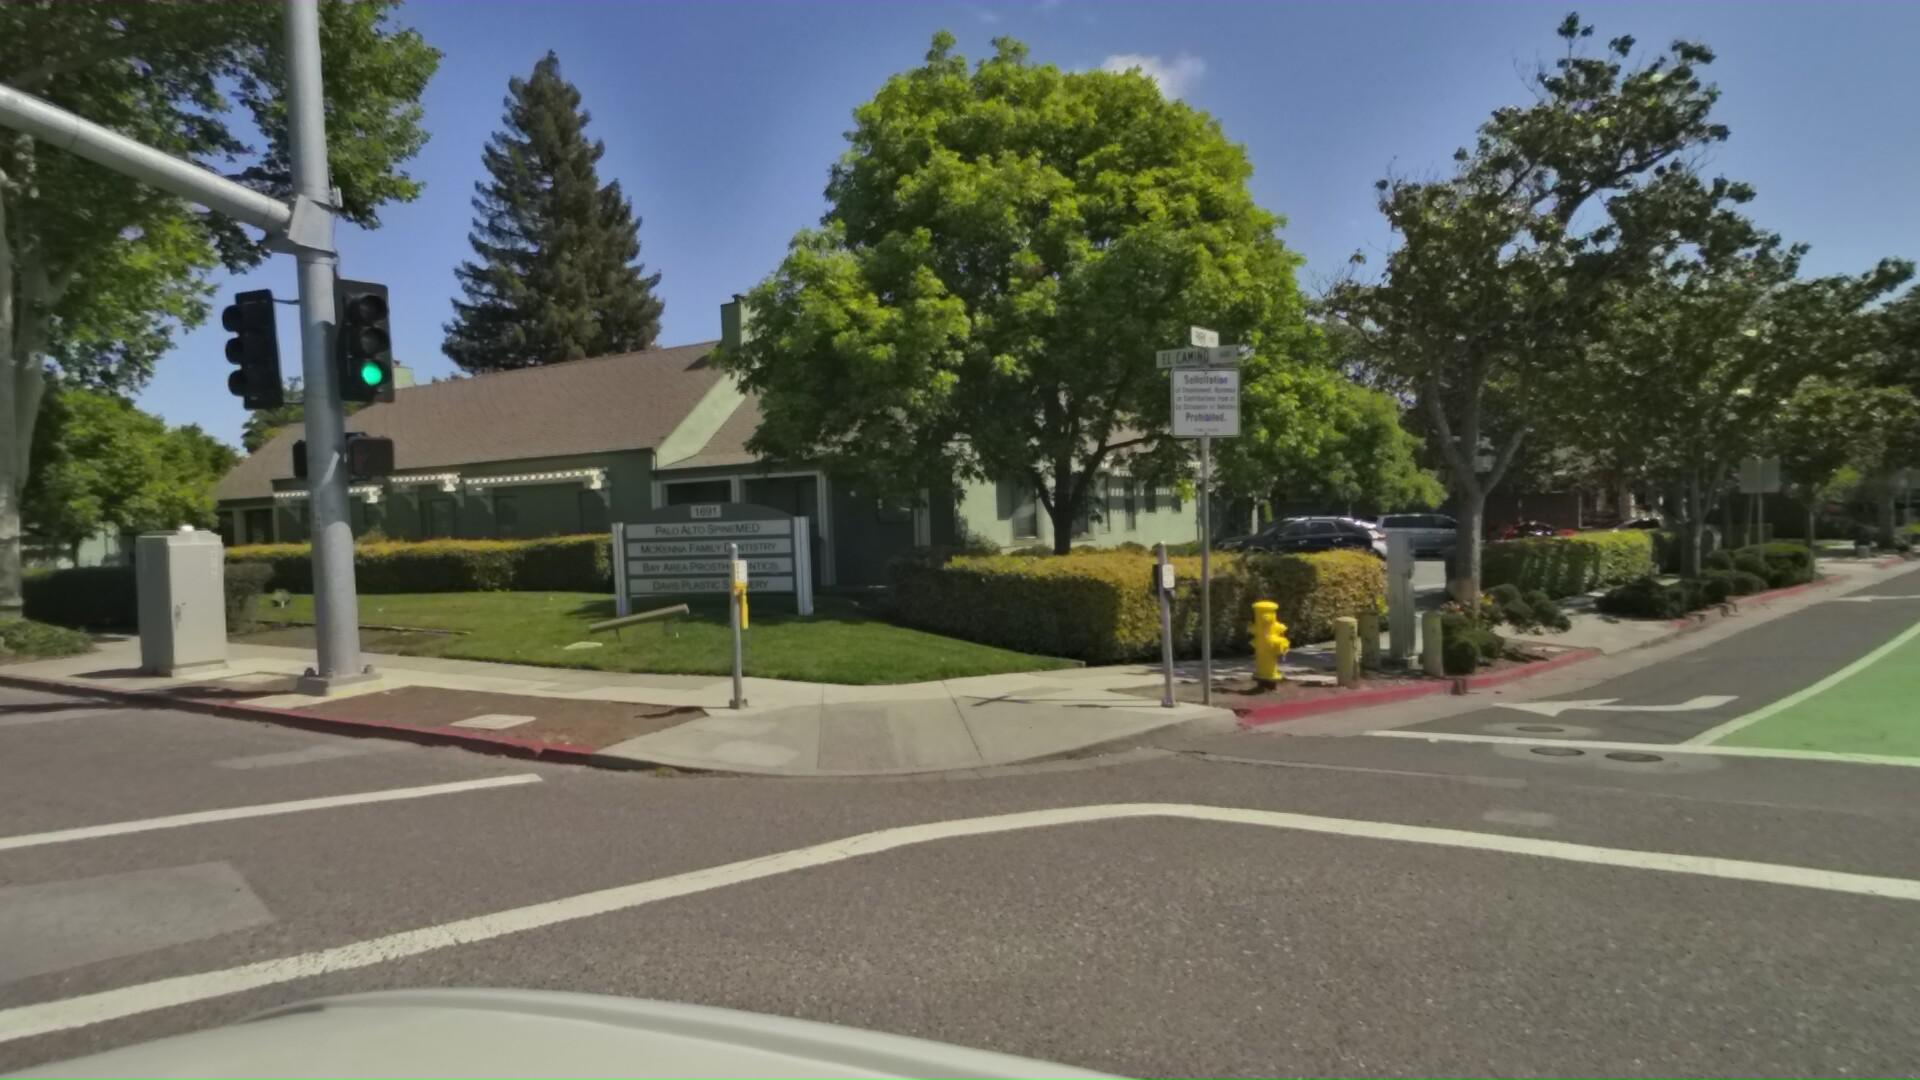car: (1218, 506, 1393, 575), (1237, 506, 1400, 568), (1578, 505, 1745, 553), (1461, 509, 1600, 553)
